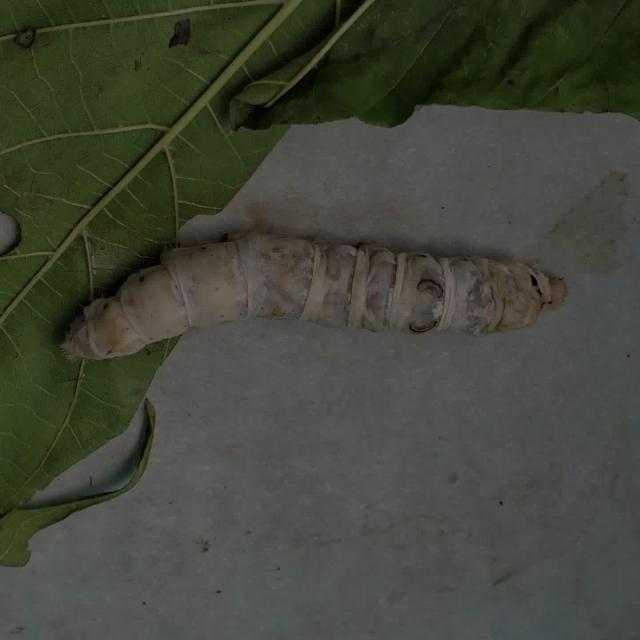Grasserie: (59, 220, 572, 368)
